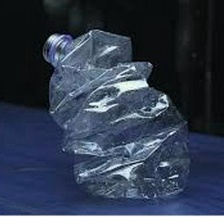bottle: (33, 25, 201, 207)
